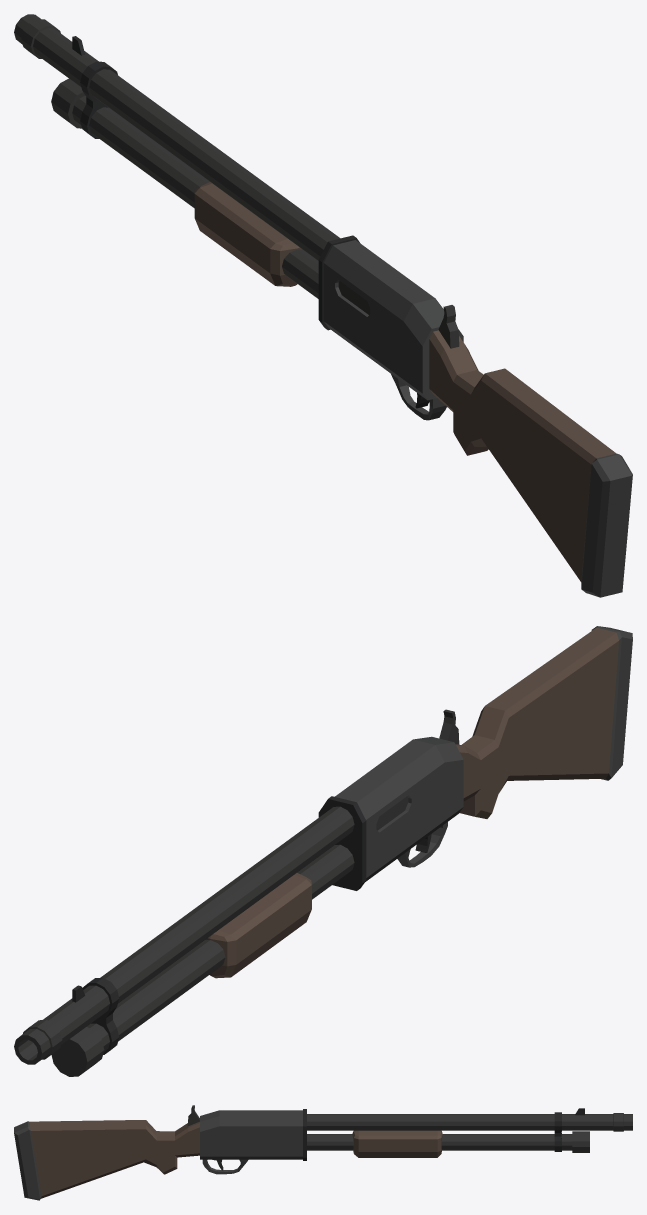
Rendered from shotgun.glb.
3 views of the same model, one above another, from view 1: azimuth 30°, elevation 25°; view 2: azimuth 150°, elevation 25°; view 3: azimuth 270°, elevation 25° (orthographic). The views are drawn at different scales.
Visible parts, largest first — view 1: Shotgun_3; view 2: Shotgun_3; view 3: Shotgun_3.
Part boxes in pixels (x1,y1,x2,y2): Shotgun_3: (14,14,632,597); Shotgun_3: (14,626,632,1076); Shotgun_3: (14,1105,632,1200).
Bounding box in the file's own units: 0.0213 × 0.0815 × 0.5.
